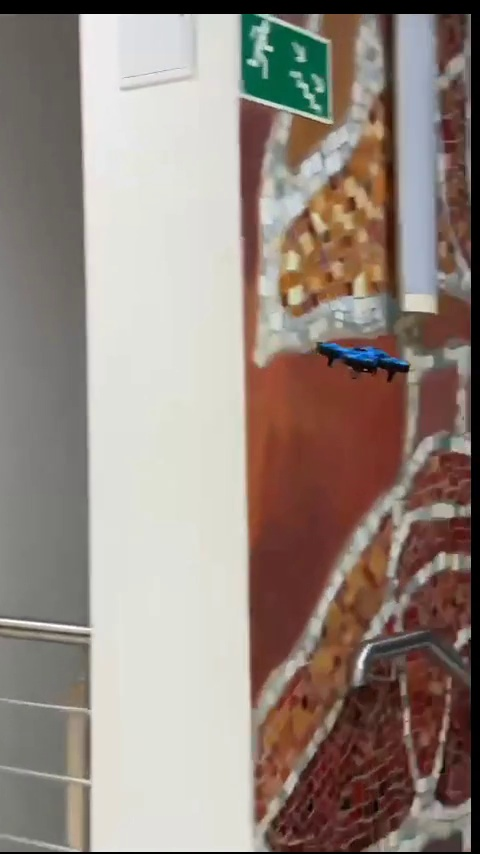drone: (319, 336, 412, 385)
